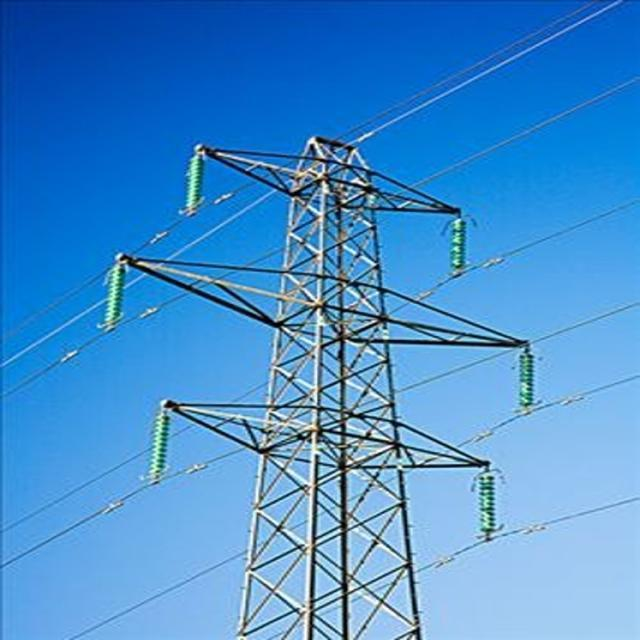non-critical vegetation: (106, 119, 522, 588)
